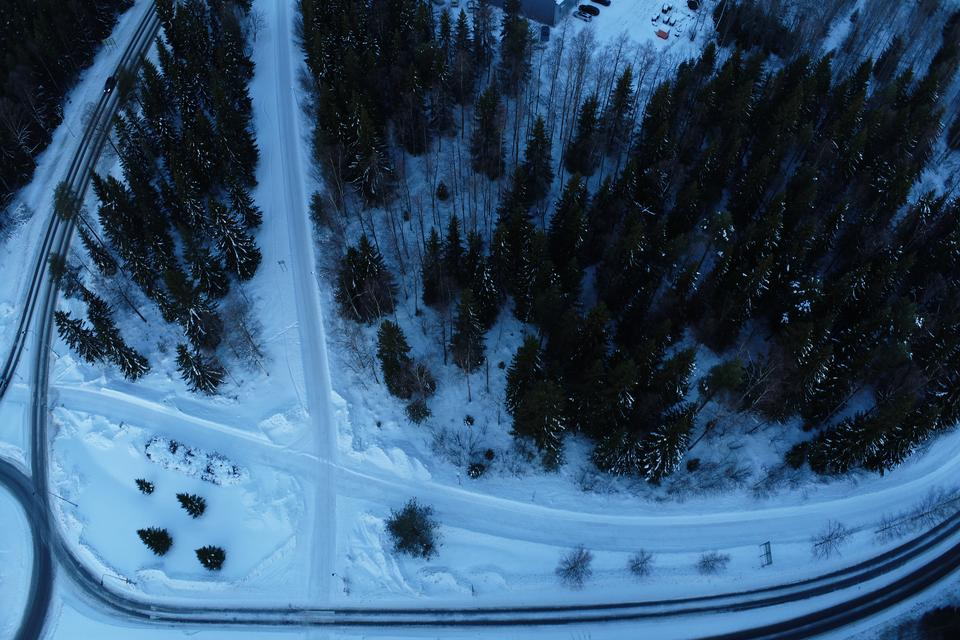intersection: (0, 365, 81, 416), (283, 579, 348, 640)
roundabout: (0, 427, 86, 640)
